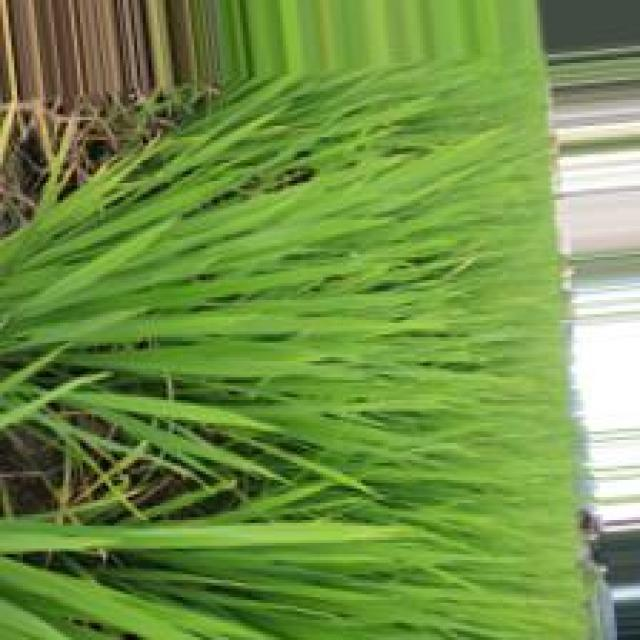HealthyLeaf: (7, 235, 561, 346), (196, 529, 593, 630)
